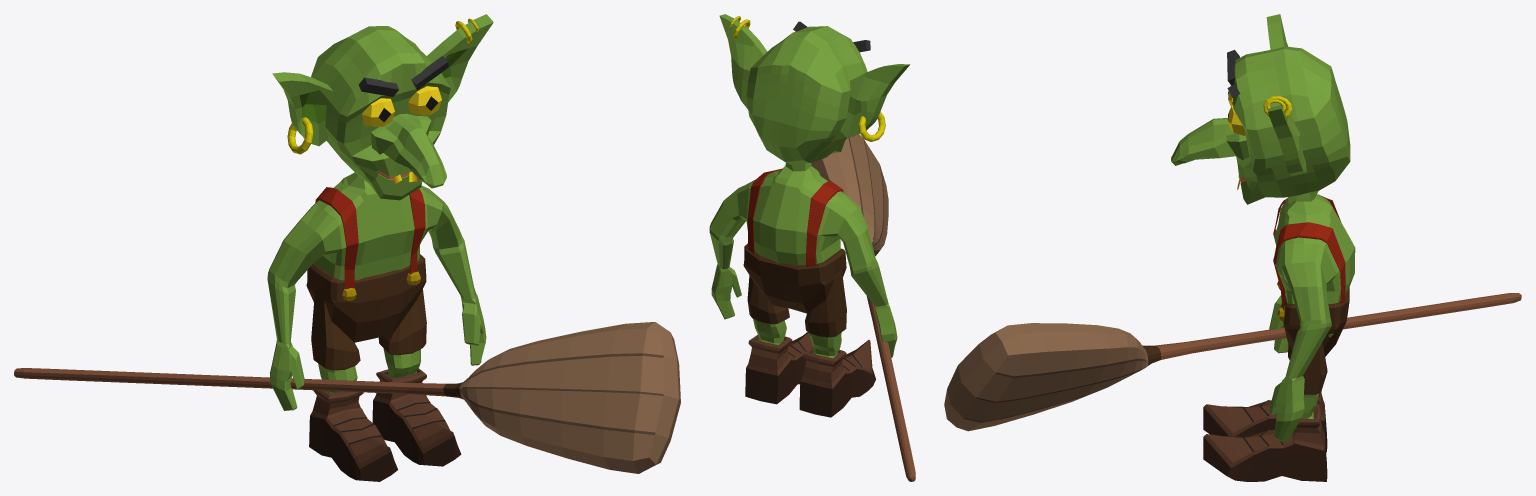
The model's file is Goblin.fbx.
3 views of the same model, side by side, from view 1: azimuth 30°, elevation 25°; view 2: azimuth 150°, elevation 25°; view 3: azimuth 270°, elevation 25° (orthographic). The views are drawn at different scales.
Visible parts, largest first — view 1: Besen; view 2: Besen; view 3: Besen.
Boxes of the visible parts, x1,y1,x2,y2 form: Besen: (14, 14, 680, 481); Besen: (709, 14, 915, 481); Besen: (944, 14, 1521, 481).
Size of the model in its own units: 506 by 524 by 662.
